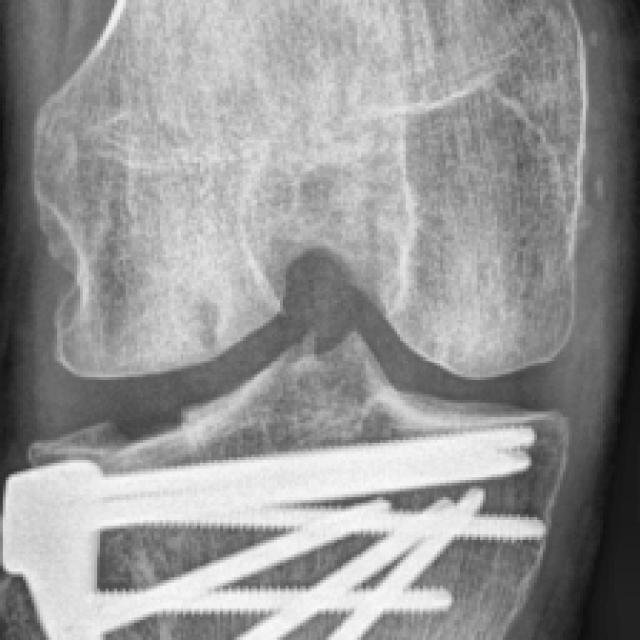femur: (31, 0, 586, 380)
tibia: (0, 330, 570, 640)
